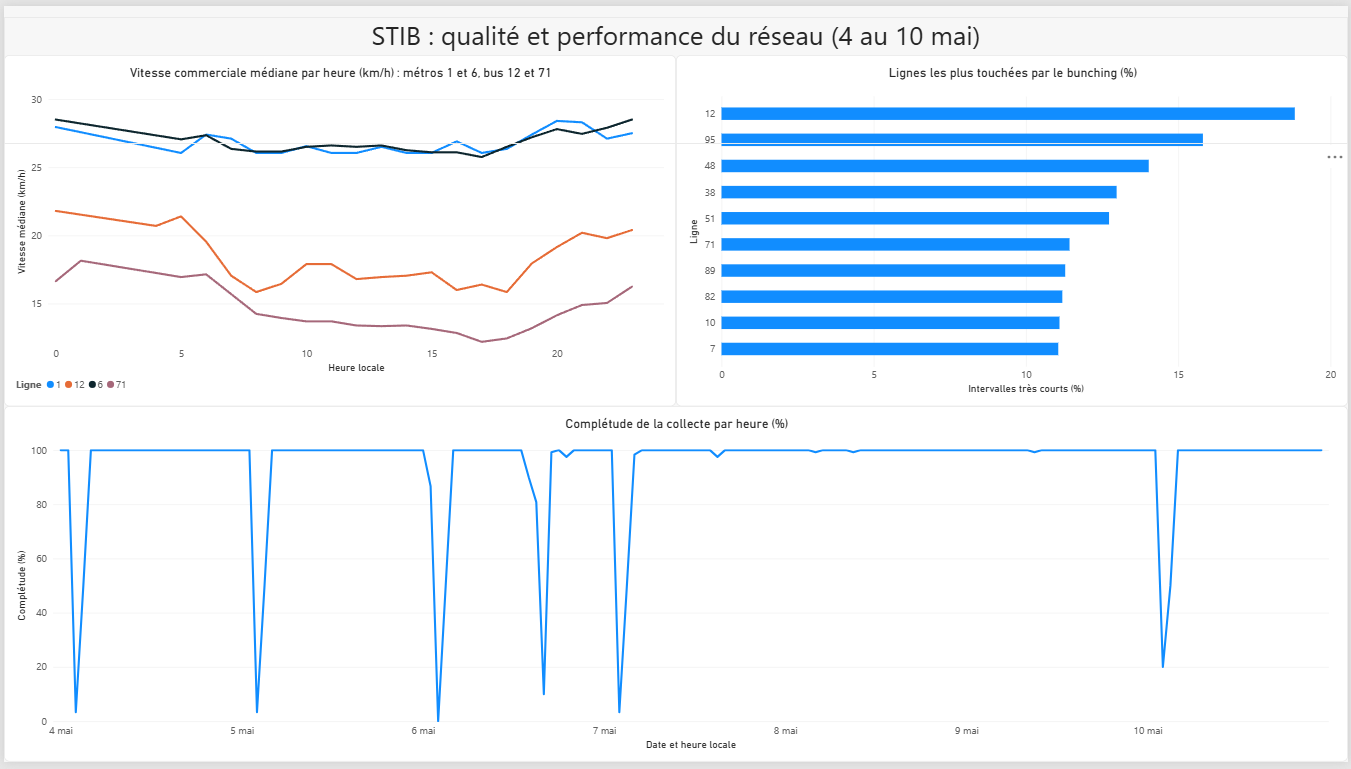

This screenshot's page, from the dashboard's own definition file:
{"tool":"powerbi","page":{"name":"Page 1","canvas":[1920,1080],"ordinal":0},"visuals":[{"type":"lineChart","title":"Vitesse commerciale médiane par heure (km/h) : métros 1 et 6, bus 12 et 71","fields":{"Category":["fct_line_speeds.local_hour_of_day"],"Series":["fct_line_speeds.lineid"],"Y":["Avg(fct_line_speeds.median_speed_kmh)"]},"box":[0,70,960,501.7],"z":0},{"type":"clusteredBarChart","title":"Lignes les plus touchées par le bunching (%)","fields":{"Category":["fct_headway_regularity.lineid"],"Y":["Avg(fct_headway_regularity.bunching_pct)"]},"box":[960,70,960,501.7],"z":1},{"type":"lineChart","title":"Complétude de la collecte par heure (%)","fields":{"Category":["fct_collection_health.local_hour"],"Y":["Avg(fct_collection_health.completeness_pct)"]},"box":[0,571.7,1920,508.3],"z":2},{"type":"textbox","box":[0,15,1920,181.7],"z":3}]}

Visuals, with their boxes in screenshot pixels (x1, y1, x2, y2), scaled from the page's 1920x1080 canvas onto the 1351x769 screenshot:
"Vitesse commerciale médiane par heure (km/h) : métros 1 et 6, bus 12 et 71" lineChart: l=0, t=50, r=676, b=407
"Lignes les plus touchées par le bunching (%)" clusteredBarChart: l=676, t=50, r=1350, b=407
"Complétude de la collecte par heure (%)" lineChart: l=0, t=407, r=1350, b=768
textbox: l=0, t=11, r=1350, b=140
